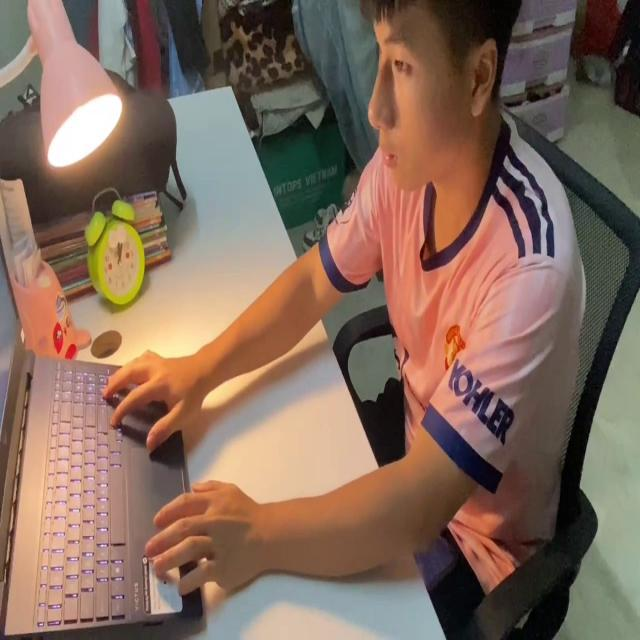laptop: (1, 230, 209, 633)
student: (100, 0, 588, 619)
